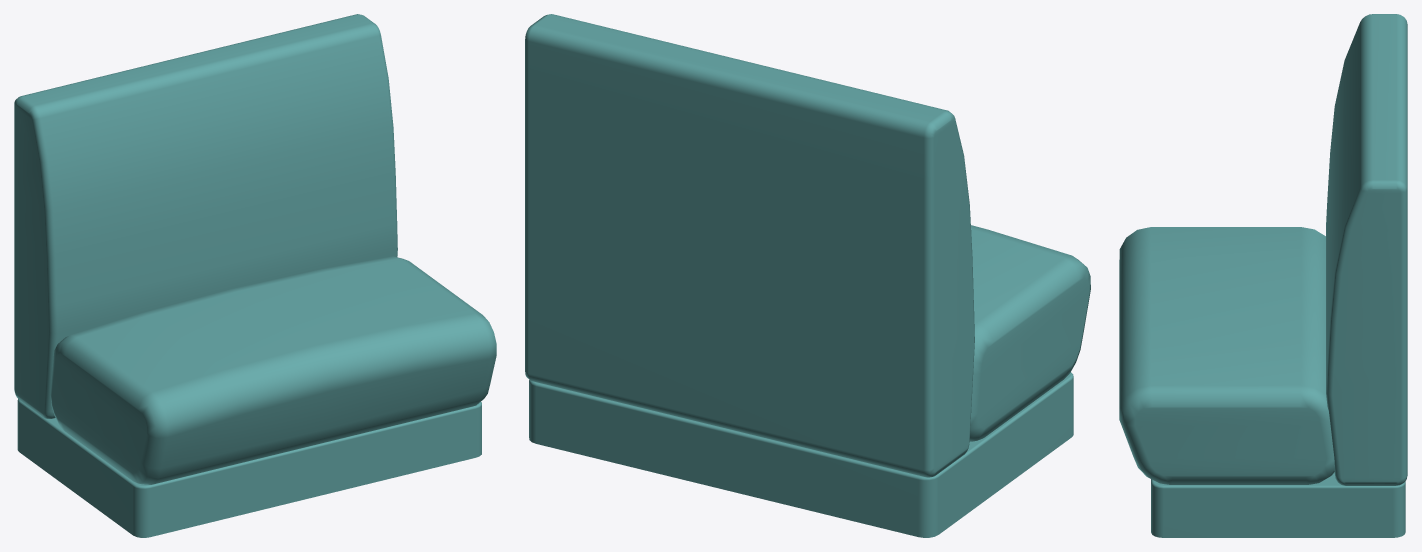
The model's file is SM_Quilted_Leather_Bench.fbx.
3 renders of one model, left to right at view 1: azimuth 30°, elevation 25°; view 2: azimuth 150°, elevation 25°; view 3: azimuth 270°, elevation 25°, orthographic. The views are drawn at different scales.
Visible parts, largest first — view 1: Back_Seat_low, Base_Seat_low, Support_low; view 2: Back_Seat_low, Support_low, Base_Seat_low; view 3: Base_Seat_low, Back_Seat_low, Support_low.
Boxes of the visible parts, x1,y1,x2,y2 form: Back_Seat_low: [14, 14, 397, 418]; Base_Seat_low: [50, 256, 496, 484]; Support_low: [17, 399, 481, 537]; Back_Seat_low: [525, 14, 974, 477]; Support_low: [529, 372, 1073, 537]; Base_Seat_low: [969, 225, 1090, 441]; Base_Seat_low: [1119, 227, 1334, 484]; Back_Seat_low: [1326, 14, 1407, 485]; Support_low: [1151, 472, 1405, 537].
Bounding box in the file's own units: 145 × 140 × 103.
